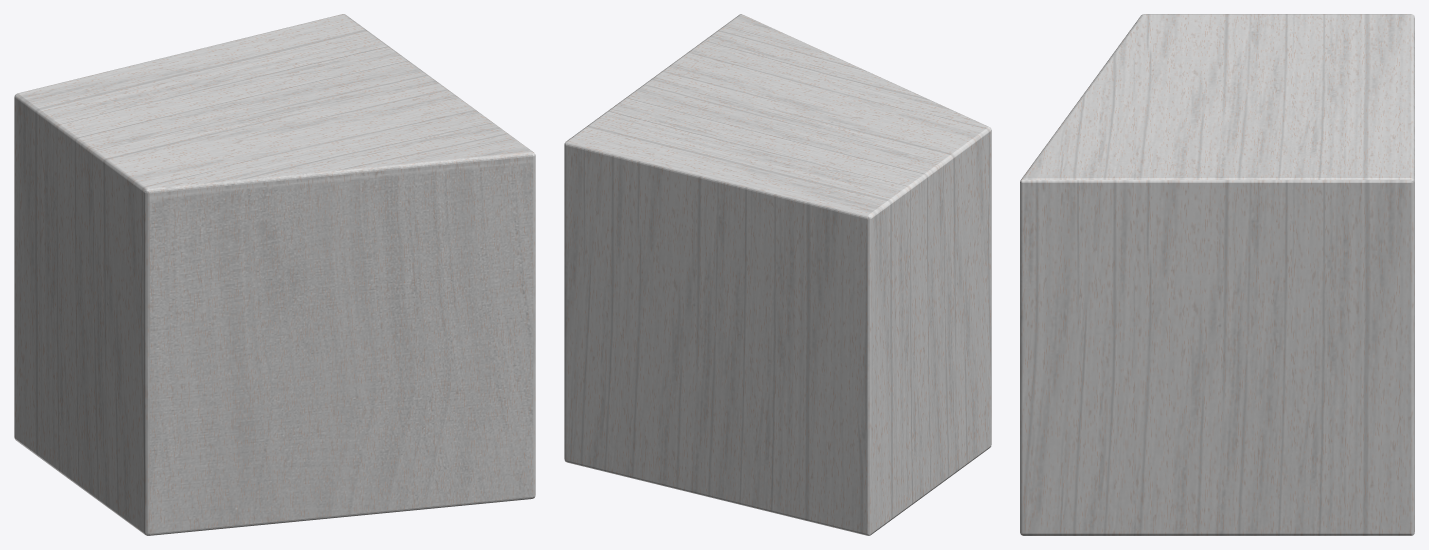
The model's file is bloque_optimizado.glb.
3 views of the same model, side by side, from view 1: azimuth 30°, elevation 25°; view 2: azimuth 150°, elevation 25°; view 3: azimuth 270°, elevation 25° (orthographic). The views are drawn at different scales.
Visible parts, largest first — view 1: Cubo optimizado 1.1; view 2: Cubo optimizado 1.1; view 3: Cubo optimizado 1.1.
Boxes of the visible parts, bbox=[...] form: Cubo optimizado 1.1: bbox=[14, 14, 535, 535]; Cubo optimizado 1.1: bbox=[564, 14, 991, 535]; Cubo optimizado 1.1: bbox=[1020, 14, 1414, 535].
Size of the model in its own units: 2 by 2 by 2.
Materials: 1 (1 with a texture image).
